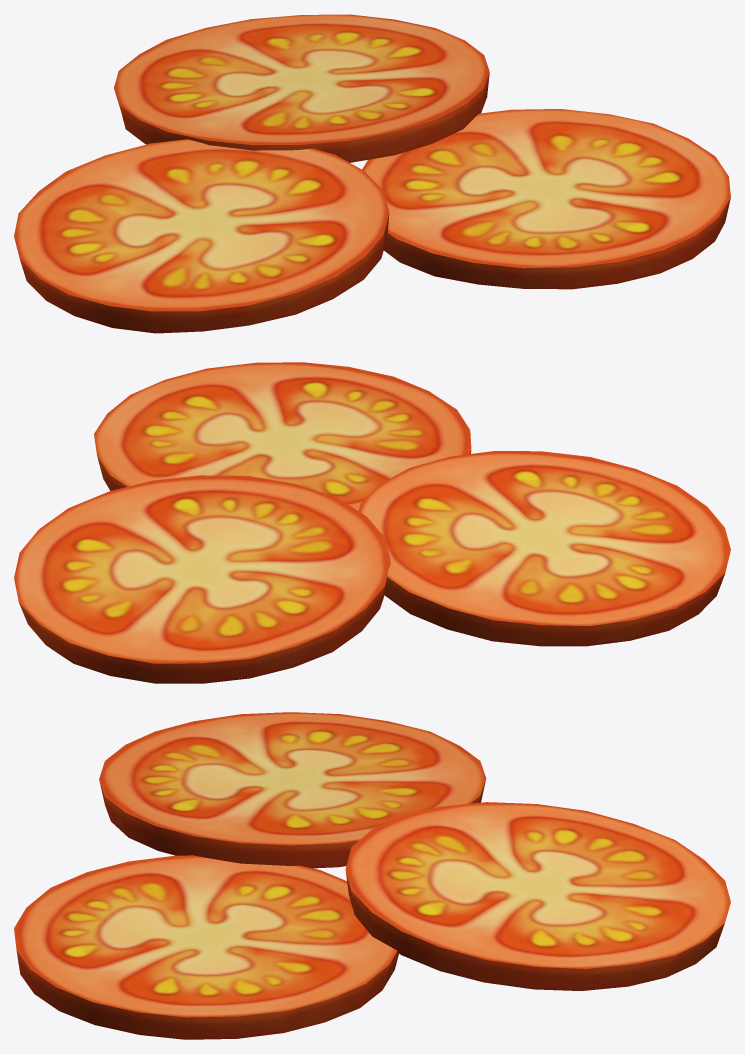
Rendered from domates_sandwich.fbx.
3 views of the same model, one above another, from view 1: azimuth 30°, elevation 25°; view 2: azimuth 150°, elevation 25°; view 3: azimuth 270°, elevation 25° (orthographic). The views are drawn at different scales.
Visible parts, largest first — view 1: domates_sandwich; view 2: domates_sandwich; view 3: domates_sandwich.
Part boxes in pixels (x1,y1,x2,y2): domates_sandwich: [14, 14, 730, 333]; domates_sandwich: [14, 362, 730, 683]; domates_sandwich: [14, 712, 730, 1039].
Bounding box in the file's own units: 33.64 × 2.98 × 32.62.
